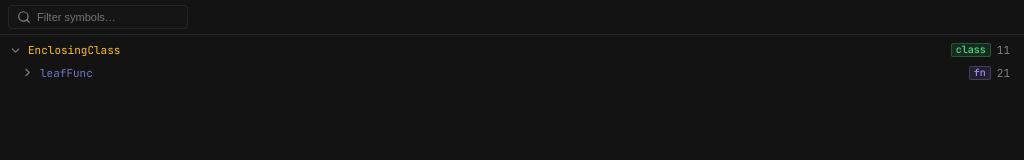
Test: OutlinePanel › a leaf function (children are locals, not nested functions) defaults to collapsed; its enclosing class stays expanded
Expected: the text "EnclosingClass" is shown, [28,43,120,57]
Expected: the text "leafFunc" is shown, [40,66,93,80]
Note: Expanding it via the toggle reveals the nested child.
Click the button named "Expand leafFunc" at point(27, 73), box [20,66,34,80]
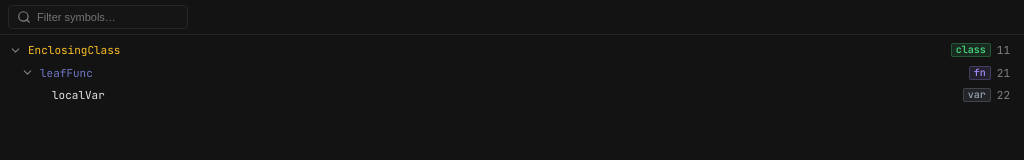
Expected: the text "localVar" is shown, [52,88,105,102]
